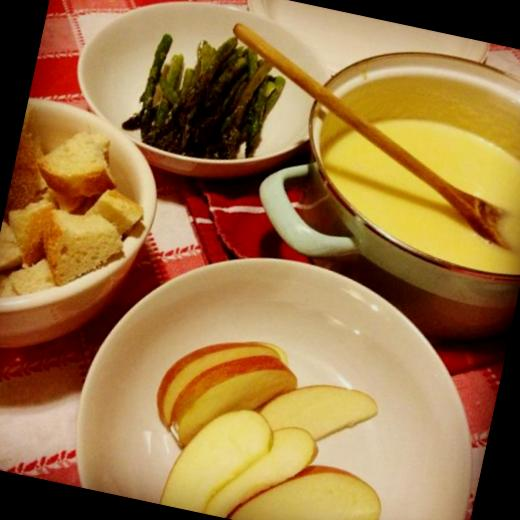Apple: (130, 318, 389, 520), (227, 445, 387, 520)
